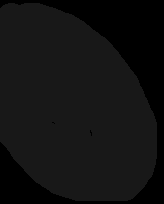fp: (1, 3, 160, 196)
